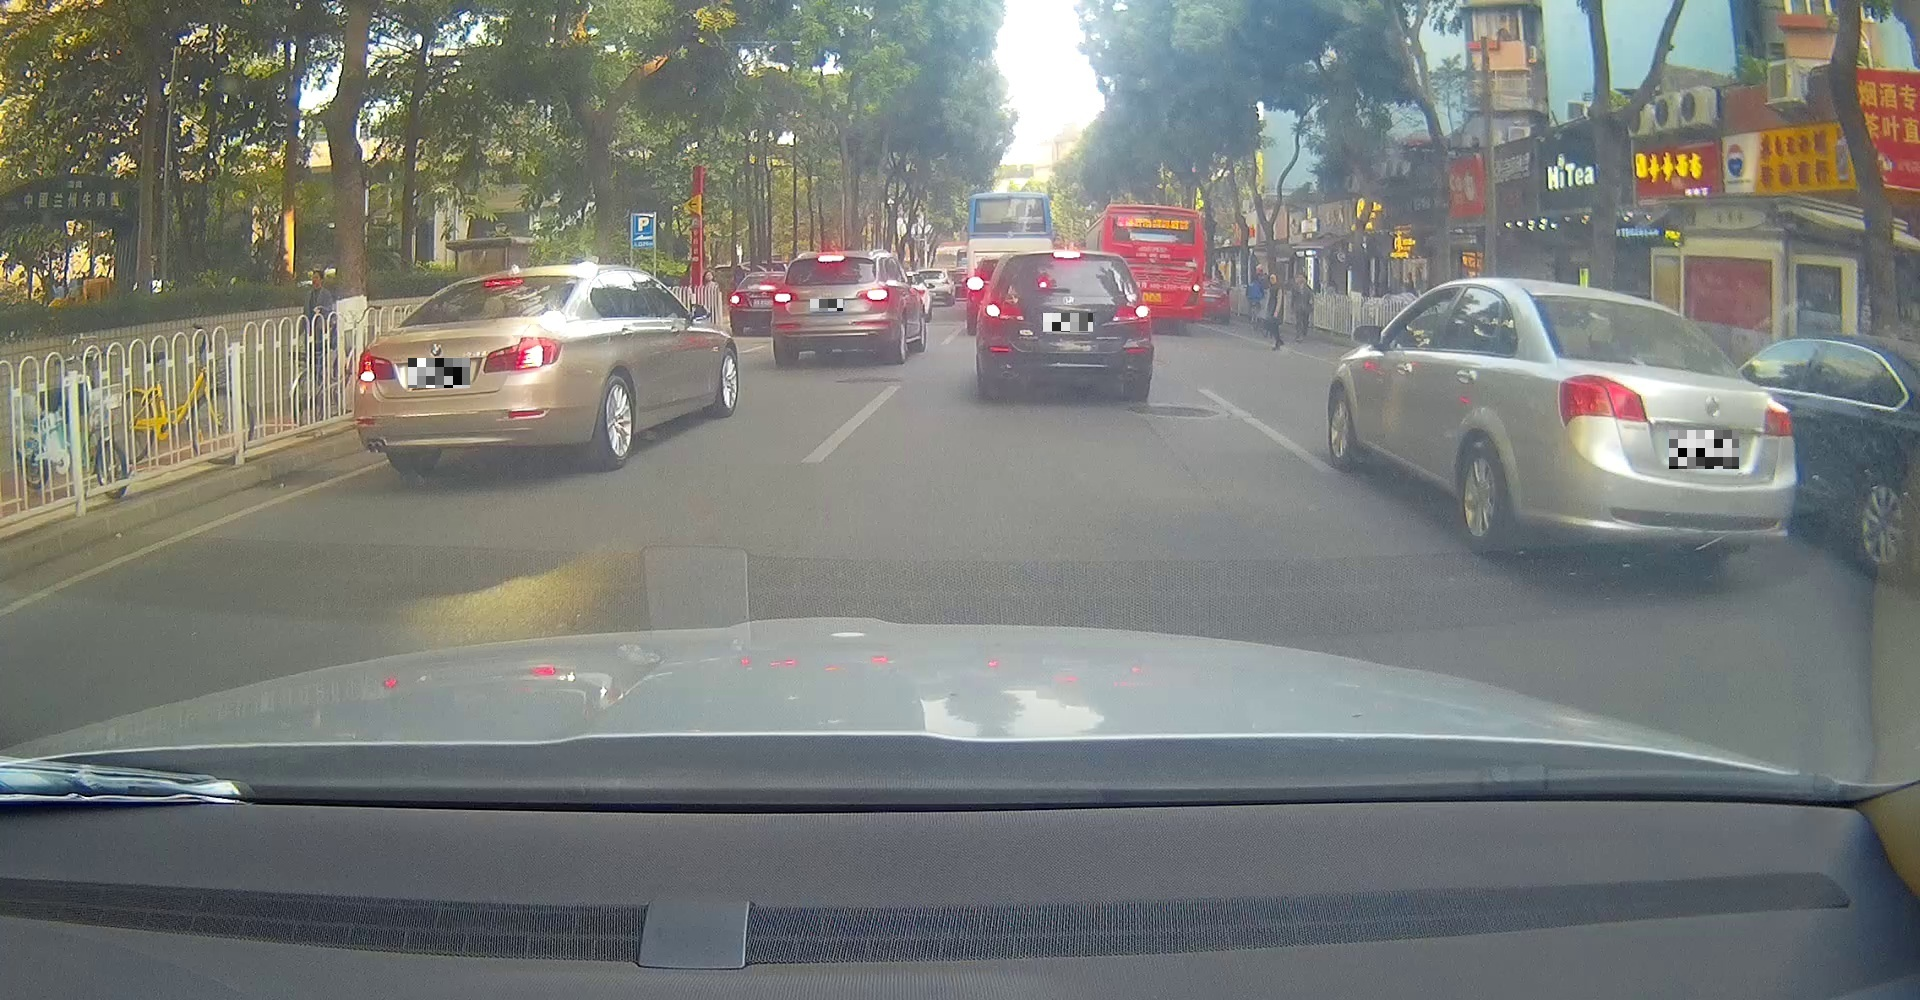L_light: (1557, 374, 1650, 426), (357, 350, 396, 382), (982, 302, 1023, 321), (771, 291, 797, 306)
R_light: (483, 336, 563, 374), (1763, 407, 1794, 438), (1112, 301, 1152, 324), (855, 287, 891, 306)
T_light: (1643, 360, 1688, 371), (484, 277, 523, 286), (1051, 250, 1081, 259), (817, 254, 844, 261)
day-brake: (353, 266, 585, 472), (974, 249, 1156, 404), (770, 251, 894, 364)
day-no: (1525, 280, 1799, 566)
plate_1: (408, 358, 470, 388)
plate_2: (810, 299, 843, 311)
plate_3: (1043, 313, 1093, 332)
plate_4: (1669, 430, 1738, 470)
